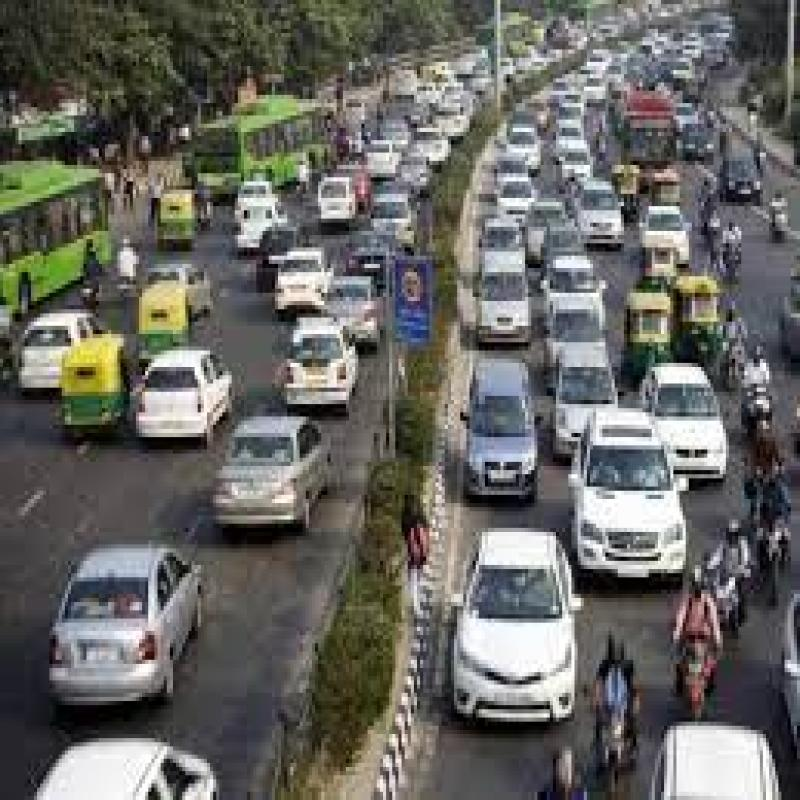bike: (592, 680, 639, 795), (676, 639, 718, 716), (760, 513, 786, 595)
bus: (0, 156, 114, 309), (186, 98, 328, 174)
car: (33, 519, 206, 716), (459, 521, 577, 729), (568, 407, 693, 595), (219, 406, 317, 546), (472, 346, 544, 511), (638, 352, 726, 479), (136, 334, 222, 445), (554, 338, 630, 453), (5, 317, 95, 410), (276, 311, 367, 401), (478, 257, 532, 349), (275, 246, 330, 313)
